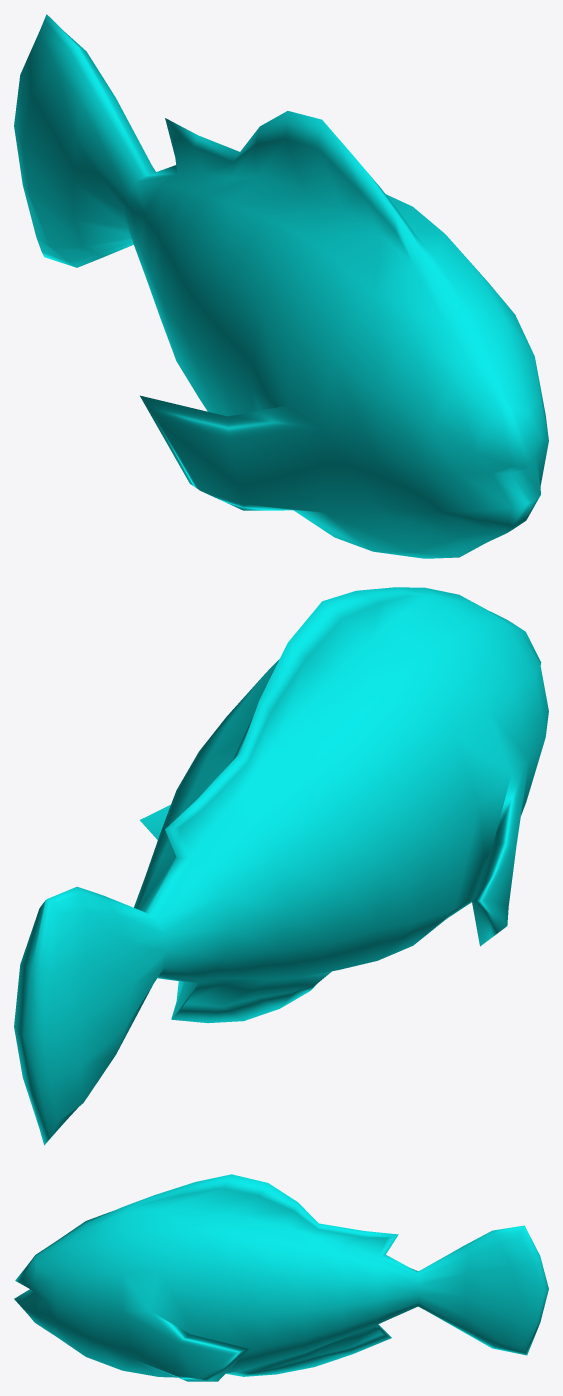
The model's file is fish2.fbx.
3 views of the same model, one above another, from view 1: azimuth 30°, elevation 25°; view 2: azimuth 150°, elevation 25°; view 3: azimuth 270°, elevation 25° (orthographic). The views are drawn at different scales.
Parts seen in each view (by area): view 1: pCylinder1; view 2: pCylinder1; view 3: pCylinder1.
Part boxes in pixels (<box>): pCylinder1: <box>14,14,548,558</box>; pCylinder1: <box>14,587,548,1145</box>; pCylinder1: <box>14,1174,548,1381</box>.
Size of the model in its own units: 2.21 by 2.42 by 5.79.
